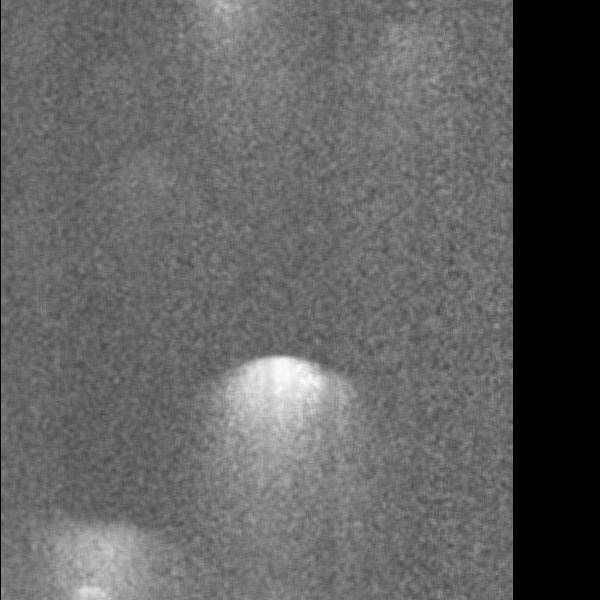spark: (217, 348, 340, 598), (52, 515, 153, 600), (384, 27, 433, 102), (187, 1, 263, 43)
